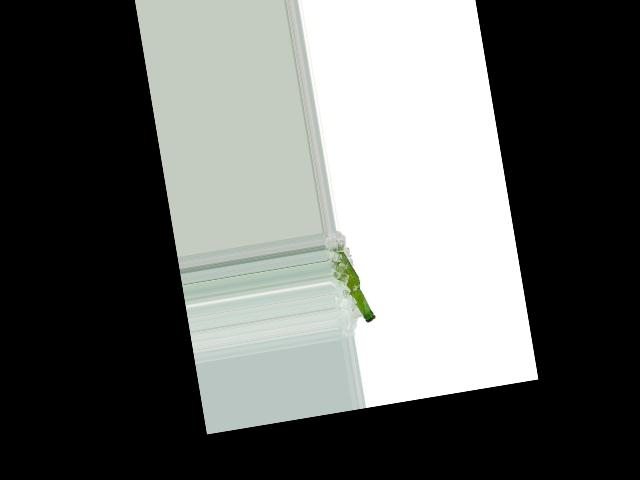beer: (334, 242, 375, 326)
